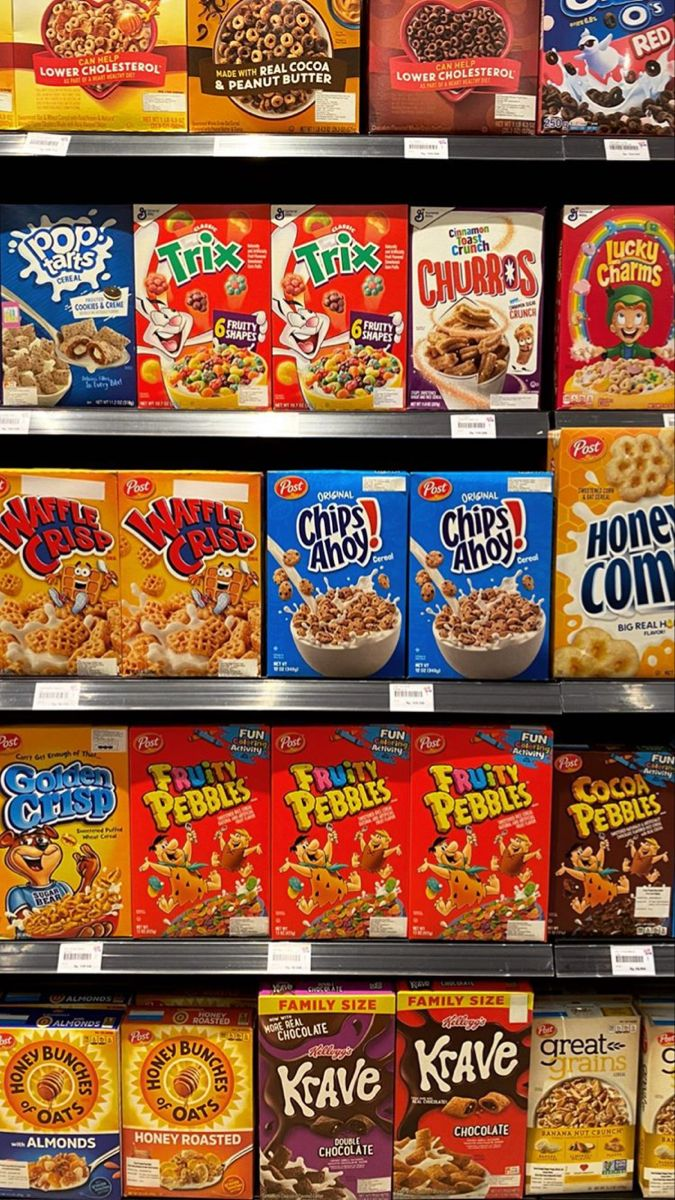Chips Ahoy: (263, 463, 411, 675)
Churros: (415, 207, 555, 347)
Fruity Pebbles: (260, 726, 401, 856)
Krave: (257, 996, 384, 1177)
Trix: (268, 195, 404, 415)
Waffle Crisp: (104, 462, 258, 597)
